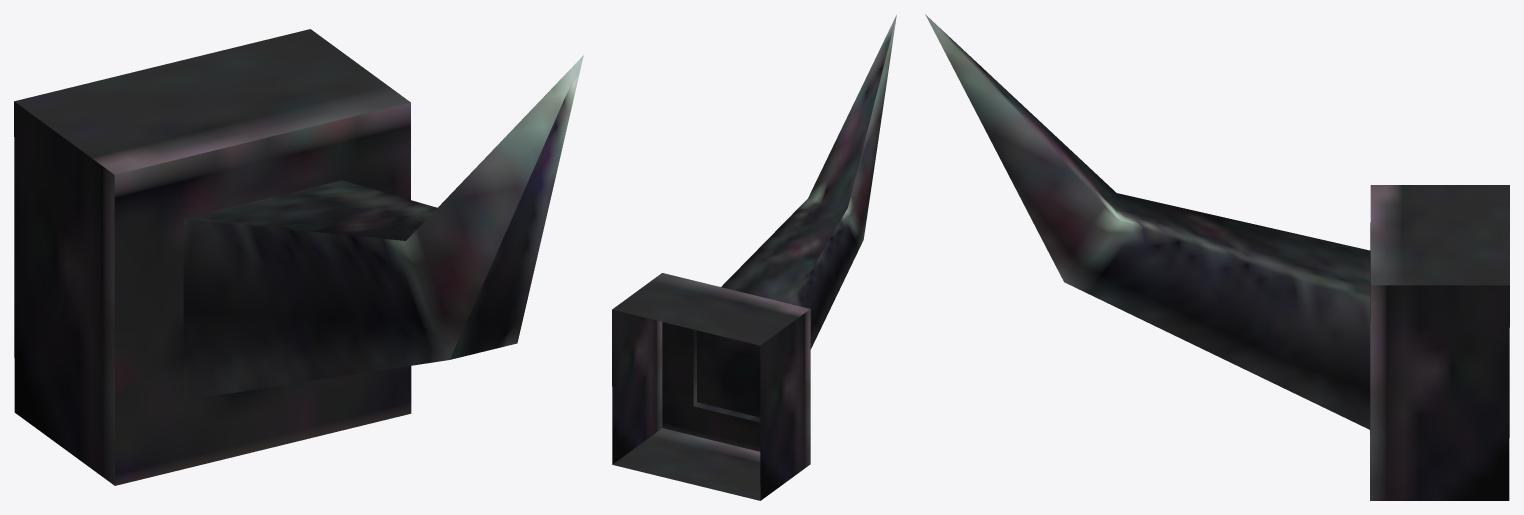
The model's file is tlfb_dingzi1.FBX.
3 renders of one model, left to right at view 1: azimuth 30°, elevation 25°; view 2: azimuth 150°, elevation 25°; view 3: azimuth 270°, elevation 25°, orthographic. The views are drawn at different scales.
Visible parts, largest first — view 1: tlfb_dingzi1; view 2: tlfb_dingzi1; view 3: tlfb_dingzi1.
Part boxes in pixels (x1,y1,x2,y2): tlfb_dingzi1: [14, 29, 583, 485]; tlfb_dingzi1: [612, 15, 896, 500]; tlfb_dingzi1: [925, 14, 1509, 500].
Bounding box in the file's own units: 20.83 × 42.26 × 51.29.
